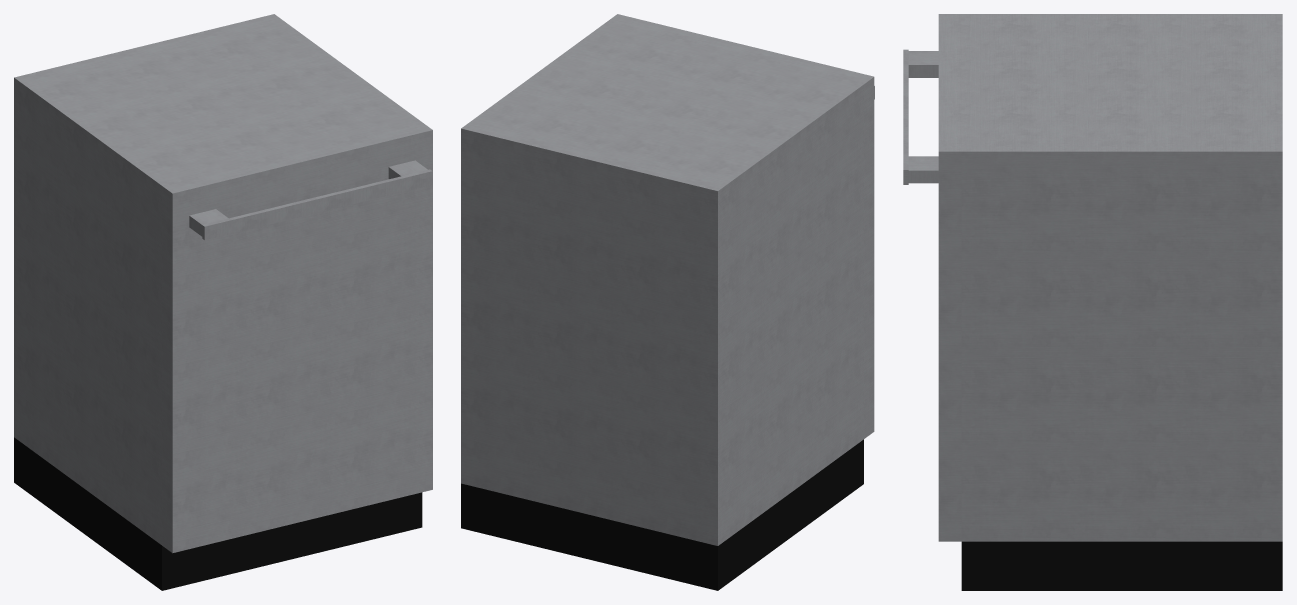
Rendered from DISHWASHER_24.glb.
3 renders of one model, left to right at view 1: azimuth 30°, elevation 25°; view 2: azimuth 150°, elevation 25°; view 3: azimuth 270°, elevation 25°, orthographic. The views are drawn at different scales.
Visible parts, largest first — view 1: Dishwasher_24__001; view 2: Dishwasher_24__001; view 3: Dishwasher_24__001.
Boxes of the visible parts, x1,y1,x2,y2 form: Dishwasher_24__001: (14,14,432,590); Dishwasher_24__001: (461,14,874,590); Dishwasher_24__001: (903,14,1282,590).
Bounding box in the file's own units: 600 × 892 × 698.
Materials: 2 (1 with a texture image).
